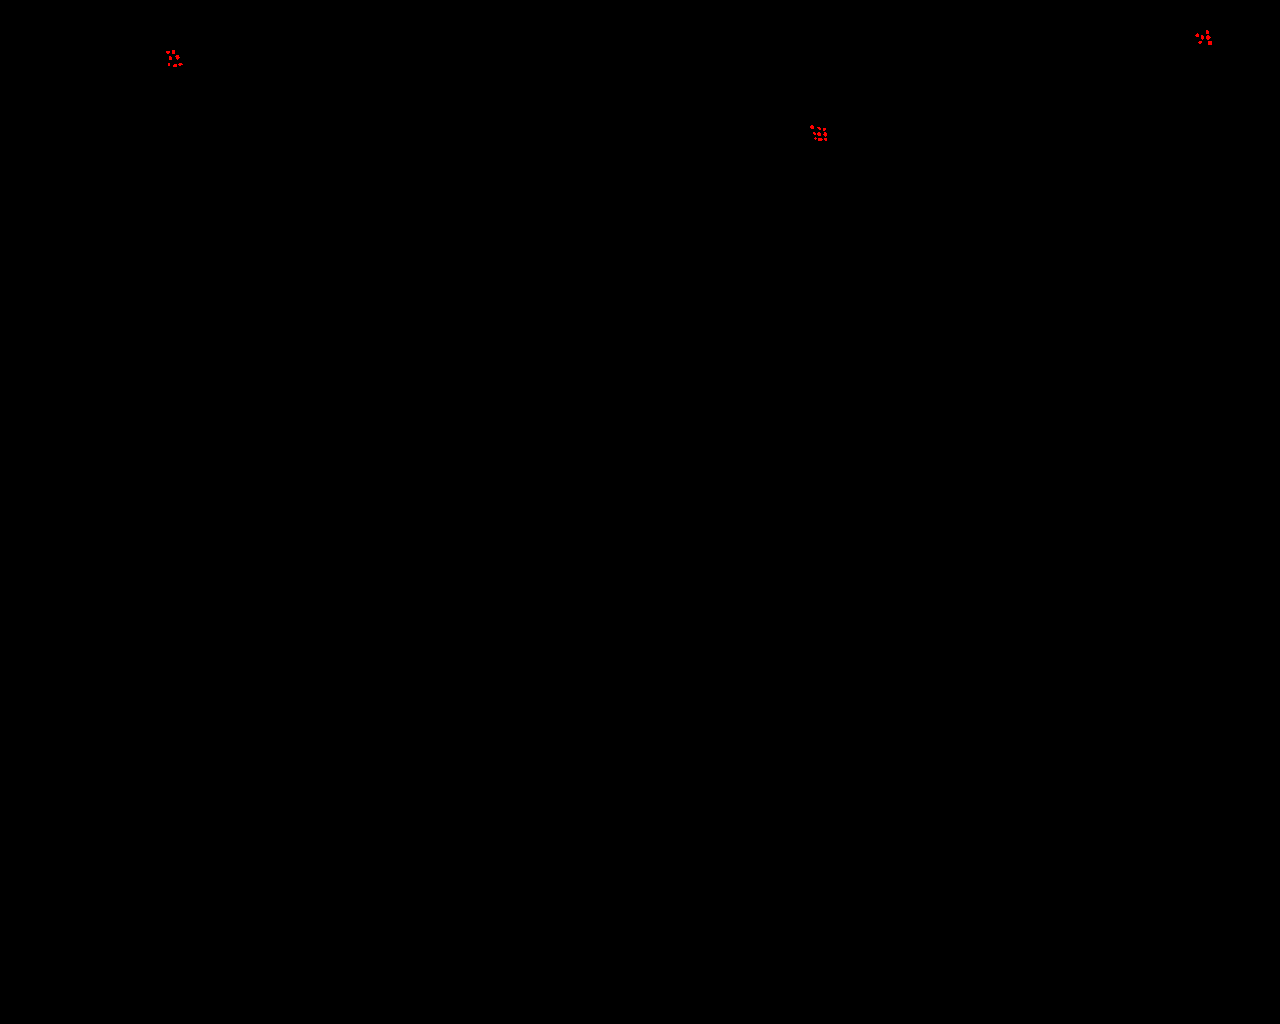Target: (1206, 34, 1211, 40), (174, 55, 180, 60), (1208, 41, 1212, 45), (817, 132, 821, 136), (1201, 34, 1204, 40), (178, 63, 183, 66), (823, 132, 827, 137), (818, 138, 823, 141), (1206, 30, 1209, 34), (166, 51, 170, 54), (810, 125, 814, 129), (1195, 33, 1198, 37), (1198, 41, 1202, 44), (169, 56, 172, 60), (173, 64, 177, 67), (823, 127, 827, 131), (813, 132, 816, 135), (814, 137, 817, 140), (172, 50, 174, 54), (817, 127, 821, 130), (168, 63, 170, 66), (824, 138, 827, 141)
